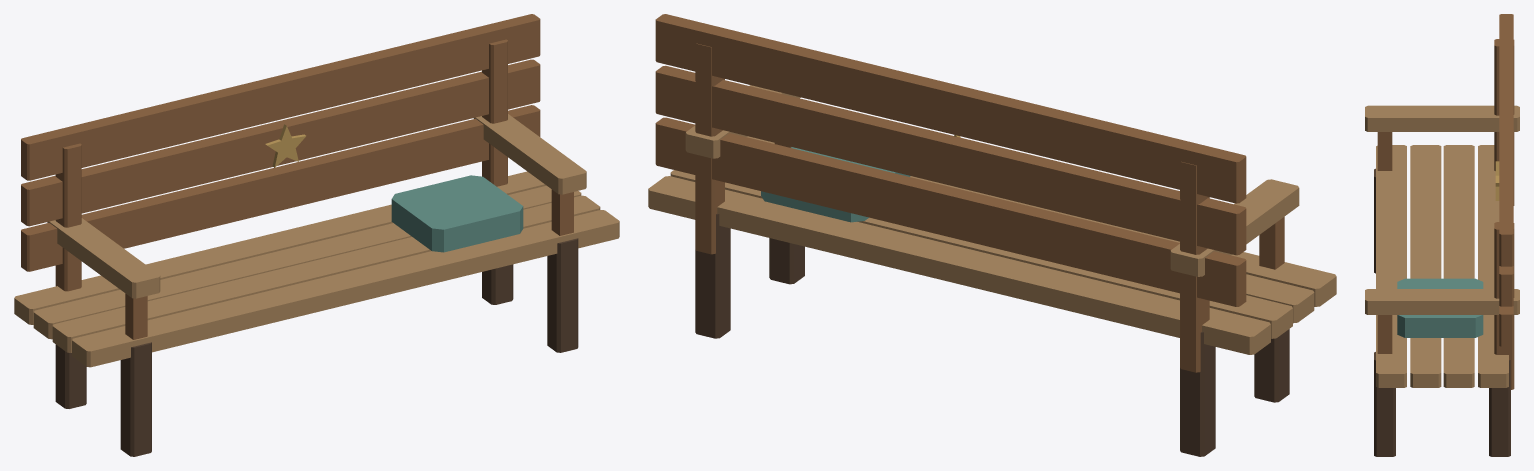
Rendered from story_bench.glb.
3 renders of one model, left to right at view 1: azimuth 30°, elevation 25°; view 2: azimuth 150°, elevation 25°; view 3: azimuth 270°, elevation 25°, orthographic. The views are drawn at different scales.
Parts seen in each view (by area): view 1: geometry; view 2: geometry; view 3: geometry.
Boxes of the visible parts, x1,y1,x2,y2 form: geometry: [14, 14, 619, 456]; geometry: [648, 14, 1336, 456]; geometry: [1365, 14, 1519, 456].
Size of the model in its own units: 2.45 by 1.18 by 0.7.
